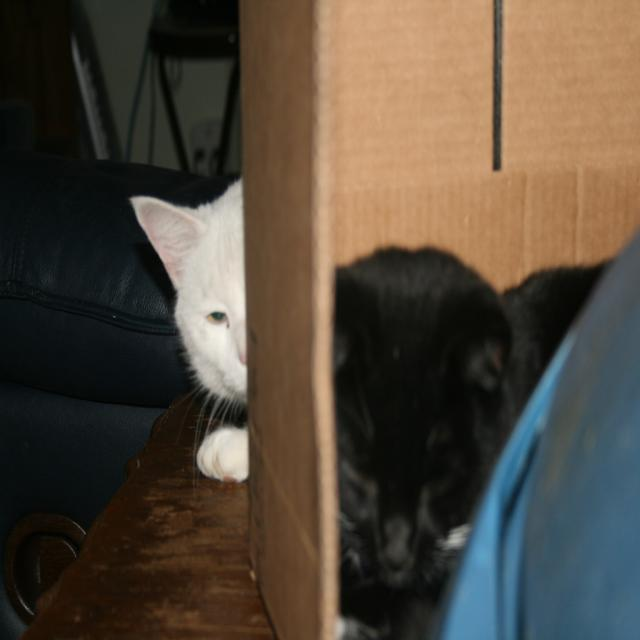Cat: (333, 244, 618, 632), (130, 175, 246, 487)
